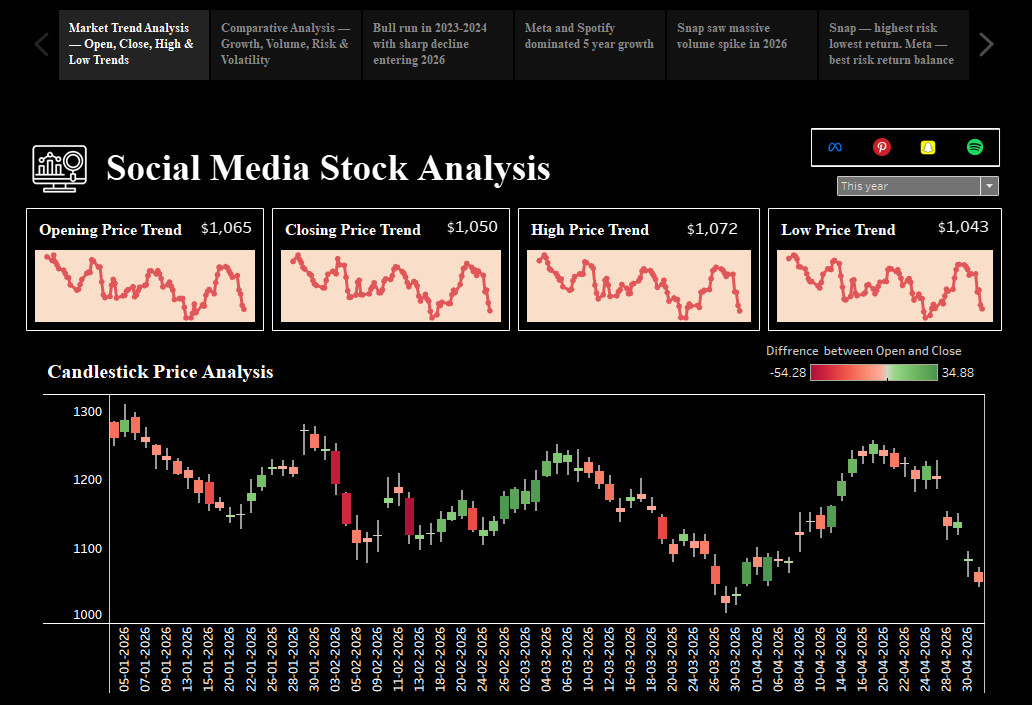

The dashboard page shown, as its layout file describes it:
{"tool":"tableau","page":{"name":"Dashboard 1","canvas":[1000,600],"ordinal":0},"visuals":[{"type":"worksheet","title":"Company","mark":"Shape","cols":["Table Name"],"box":[797,4.5,189,39]},{"type":"image","param":"C:/Users/Milind/Downloads/images.png","box":[8,8,76,73]},{"type":"worksheet","title":"Dynamic Title Sheet","mark":"Text","box":[84,8,582,73]},{"type":"filter","title":"Candlestick Price Analysis","param":"[federated.1vn10pd0oxh1w3197r5cc1kmhlas].[none:Date:qk]","box":[820,51,168,24]},{"type":"worksheet","title":"Opening Price Trend","mark":"Automatic","rows":["Open"],"cols":["Date"],"box":[8,81,246,131.1]},{"type":"worksheet","title":"Closing Price Trend","mark":"Automatic","rows":["Close"],"cols":["Date"],"box":[254,81,246,131.1]},{"type":"worksheet","title":"High Price Trend","mark":"Automatic","rows":["High"],"cols":["Date"],"box":[500,81,250,131.1]},{"type":"worksheet","title":"Low Price Trend","mark":"Automatic","rows":["Low"],"cols":["Date"],"box":[750,81,242,131.1]},{"type":"worksheet","title":"Latest Closing Price","mark":"Automatic","box":[415,89,78,28]},{"type":"worksheet","title":"Latest Low Price","mark":"Automatic","box":[901,89,78,27]},{"type":"worksheet","title":"Latest Opening Price","mark":"Automatic","box":[169,90,78,27]},{"type":"worksheet","title":"Latest High Price","mark":"Automatic","box":[663,91,78,28]},{"type":"worksheet","title":"Candlestick Price Analysis","mark":"GanttBar","rows":["Open","Low"],"cols":["Date"],"box":[8,212.1,984,379.9]},{"type":"legend","title":"Candlestick Price Analysis","param":"[federated.1vn10pd0oxh1w3197r5cc1kmhlas].[usr:Calculation_1057501553155682307:qk","box":[752,219,213,43]}]}

Visuals, with their boxes on the page's 1000x600 design canvas (x1, y1, x2, y2). These are canvas units, not pixel positions in the 1032x705 screenshot, which may show the page scaled, cropped or inside an application window:
"Company" worksheet (Shape marks): x1=797 y1=4 x2=986 y2=44
image: x1=8 y1=8 x2=84 y2=81
"Dynamic Title Sheet" worksheet (Text marks): x1=84 y1=8 x2=666 y2=81
"Candlestick Price Analysis" filter: x1=820 y1=51 x2=988 y2=75
"Opening Price Trend" worksheet: x1=8 y1=81 x2=254 y2=212
"Closing Price Trend" worksheet: x1=254 y1=81 x2=500 y2=212
"High Price Trend" worksheet: x1=500 y1=81 x2=750 y2=212
"Low Price Trend" worksheet: x1=750 y1=81 x2=992 y2=212
"Latest Closing Price" worksheet: x1=415 y1=89 x2=493 y2=117
"Latest Low Price" worksheet: x1=901 y1=89 x2=979 y2=116
"Latest Opening Price" worksheet: x1=169 y1=90 x2=247 y2=117
"Latest High Price" worksheet: x1=663 y1=91 x2=741 y2=119
"Candlestick Price Analysis" worksheet (GanttBar marks): x1=8 y1=212 x2=992 y2=592
"Candlestick Price Analysis" legend: x1=752 y1=219 x2=965 y2=262
